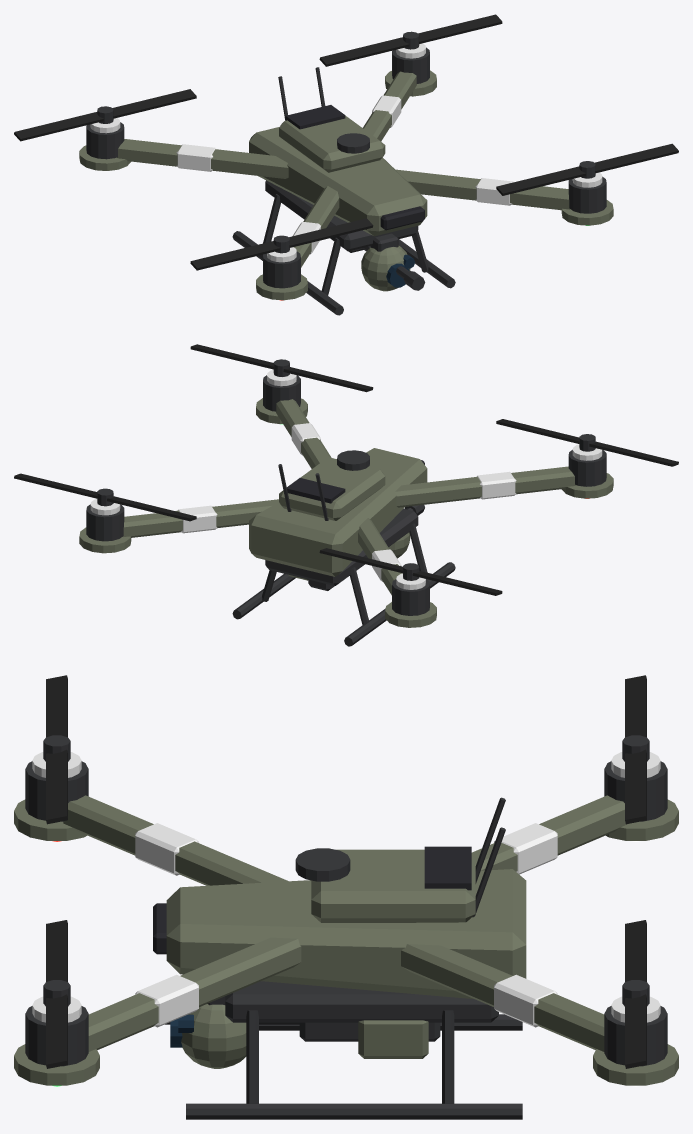
Rendered from drone.glb.
3 renders of one model, top to bottom at view 1: azimuth 30°, elevation 25°; view 2: azimuth 150°, elevation 25°; view 3: azimuth 270°, elevation 25°, orthographic. The views are drawn at different scales.
Visible parts, largest first — view 1: Body, Hump, Arm3, Arm1, BodyBelly, Gimbal, Arm2, Arm0, Motor1, Motor0, Motor3, Blade3_1 (+20 smaller); view 2: Body, Arm0, Hump, Arm2, BodyBelly, Arm1, Motor2, Motor3, Motor0, Arm3, ArmBand0, HumpVent (+17 smaller); view 3: Body, Hump, BodyBelly, Arm1, Arm2, Skid1, Arm0, Arm3, Gimbal, AmmoBox, HumpVent, Motor1 (+25 smaller).
Part boxes in pixels (bbox=[...]): Body: bbox=[249, 127, 427, 236]; Hump: bbox=[279, 115, 385, 172]; Arm3: bbox=[117, 139, 288, 178]; Arm1: bbox=[395, 169, 570, 210]; BodyBelly: bbox=[265, 180, 418, 251]; Gimbal: bbox=[361, 245, 410, 291]; Arm2: bbox=[363, 71, 416, 141]; Arm0: bbox=[294, 186, 339, 267]; Motor1: bbox=[568, 176, 606, 213]; Motor0: bbox=[263, 251, 300, 288]; Motor3: bbox=[86, 122, 124, 159]; Blade3_1: bbox=[14, 112, 103, 141]; Body: bbox=[249, 448, 427, 576]; Arm0: bbox=[395, 466, 575, 507]; Hump: bbox=[279, 457, 385, 520]; Arm2: bbox=[122, 499, 278, 537]; BodyBelly: bbox=[265, 508, 418, 585]; Arm1: bbox=[276, 399, 331, 468]; Motor2: bbox=[86, 504, 124, 541]; Motor3: bbox=[392, 579, 429, 615]; Motor0: bbox=[568, 449, 606, 486]; Arm3: bbox=[358, 518, 402, 595]; ArmBand0: bbox=[476, 471, 516, 499]; HumpVent: bbox=[286, 478, 345, 503]; Body: bbox=[166, 869, 526, 998]; Hump: bbox=[311, 849, 475, 922]; BodyBelly: bbox=[225, 981, 498, 1022]; Arm1: bbox=[88, 937, 301, 1051]; Arm2: bbox=[401, 944, 604, 1051]; Skid1: bbox=[186, 1103, 522, 1119]; Arm0: bbox=[63, 795, 288, 885]; Arm3: bbox=[471, 795, 627, 871]; Gimbal: bbox=[181, 1004, 246, 1068]; AmmoBox: bbox=[358, 1020, 428, 1058]; HumpVent: bbox=[424, 846, 471, 890]; Motor1: bbox=[25, 1006, 88, 1066].
Bounding box in the file's own units: 2.33 × 0.7381 × 1.7.
